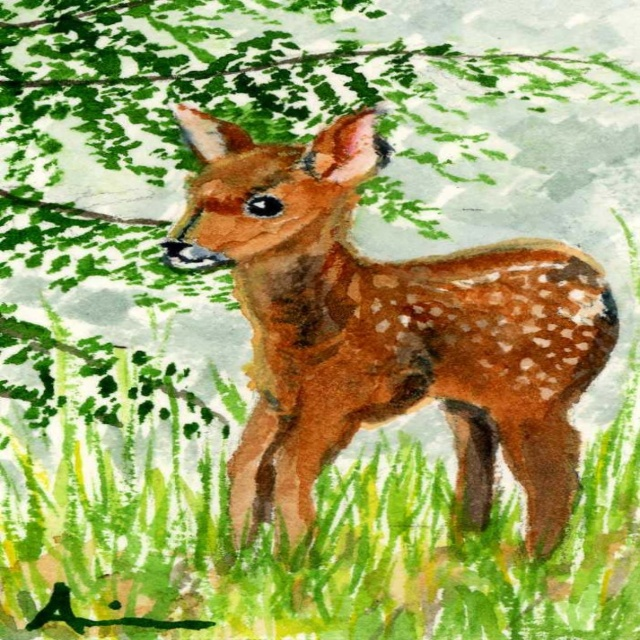Deer: (163, 105, 615, 563)
